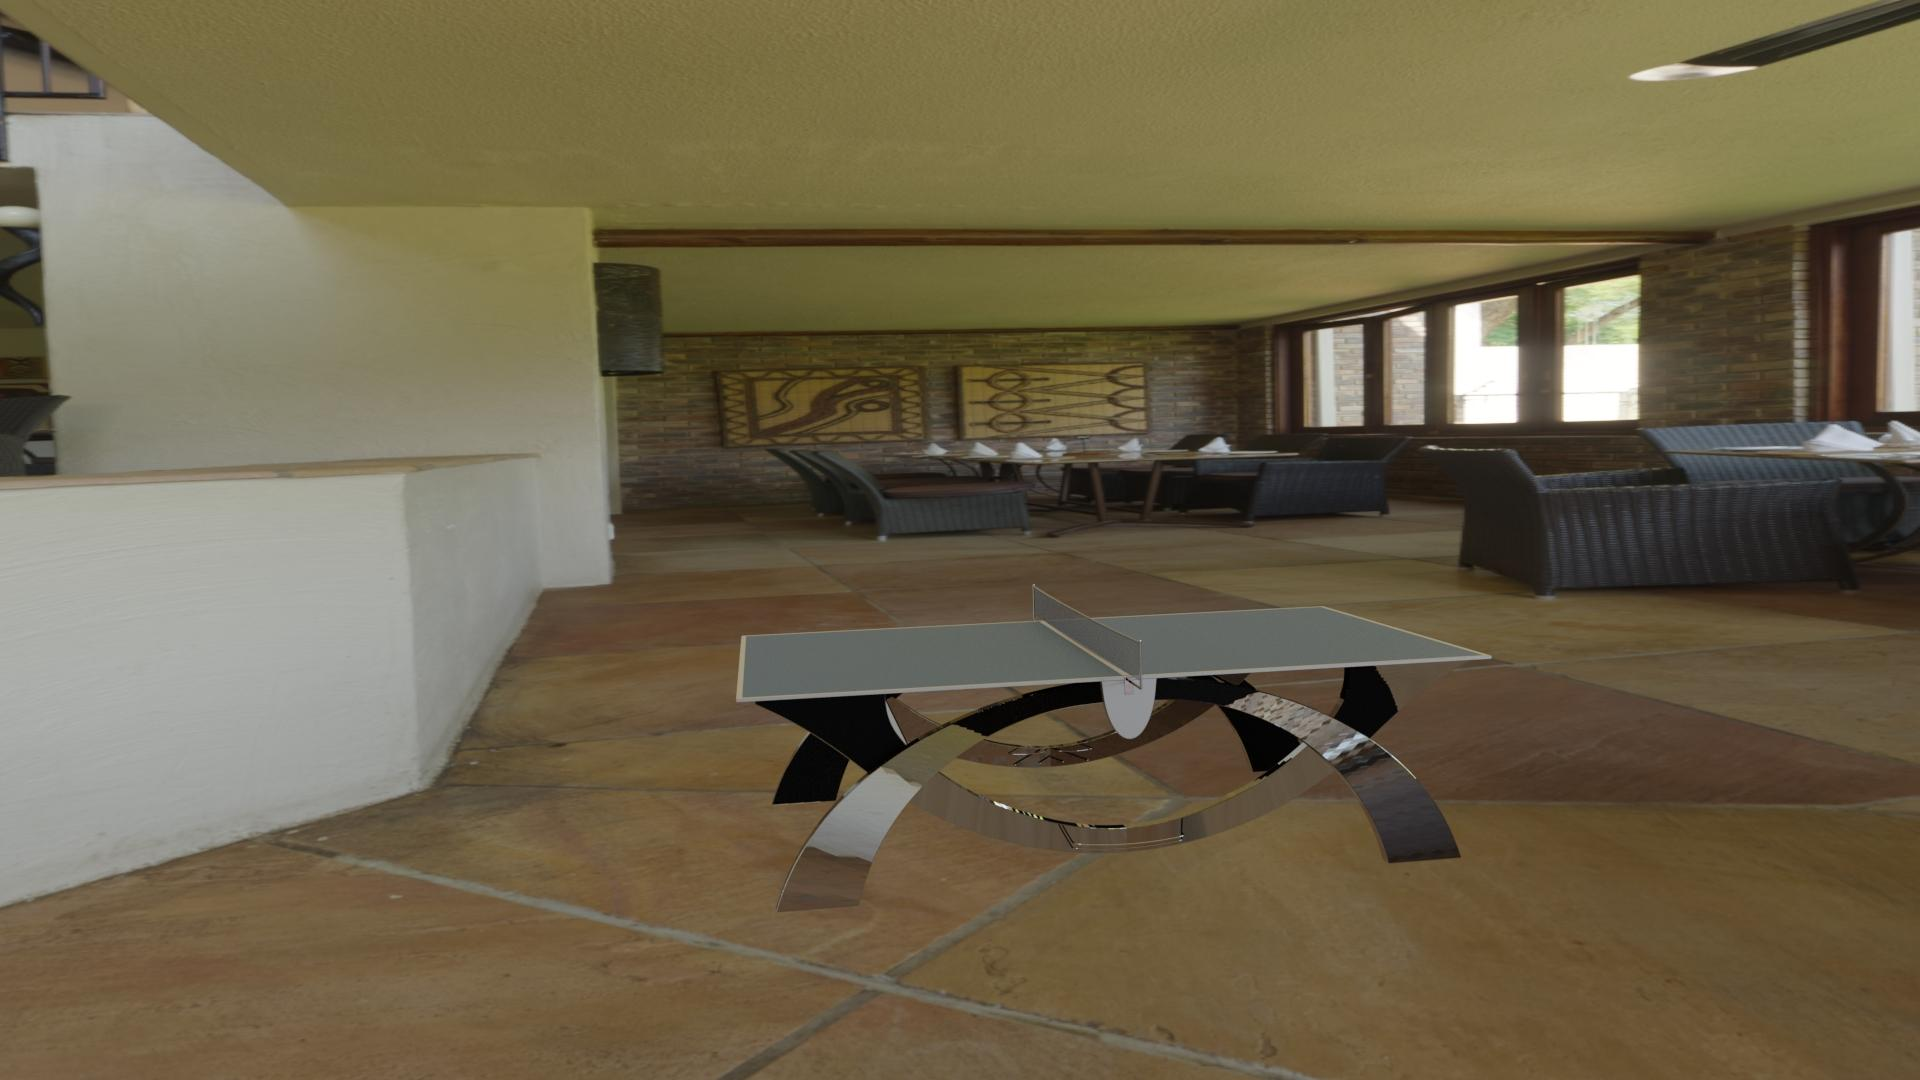table: (742, 607, 1484, 698)
